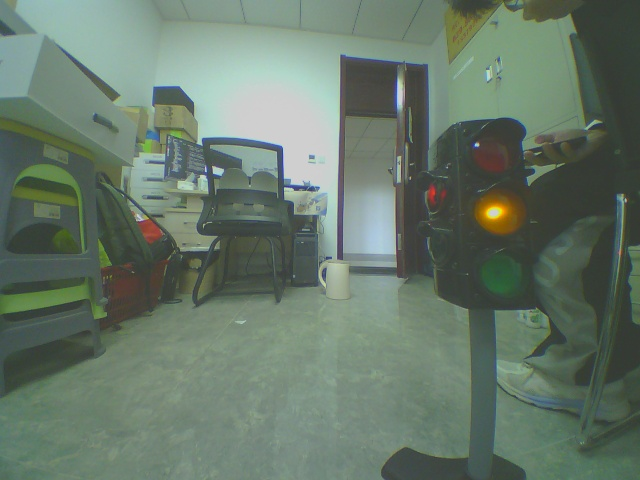Yellow: (396, 98, 532, 313)
